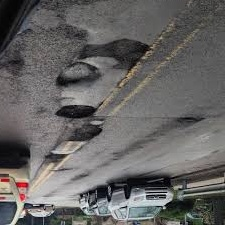pothole: (77, 28, 156, 73), (44, 99, 99, 120), (52, 61, 102, 82), (60, 123, 106, 144), (172, 111, 206, 125), (42, 151, 70, 163)
